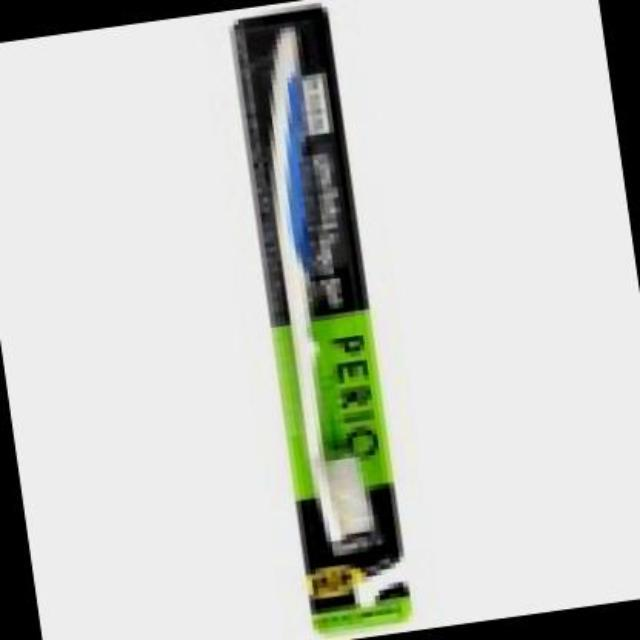toothbrush: (236, 6, 408, 554)
